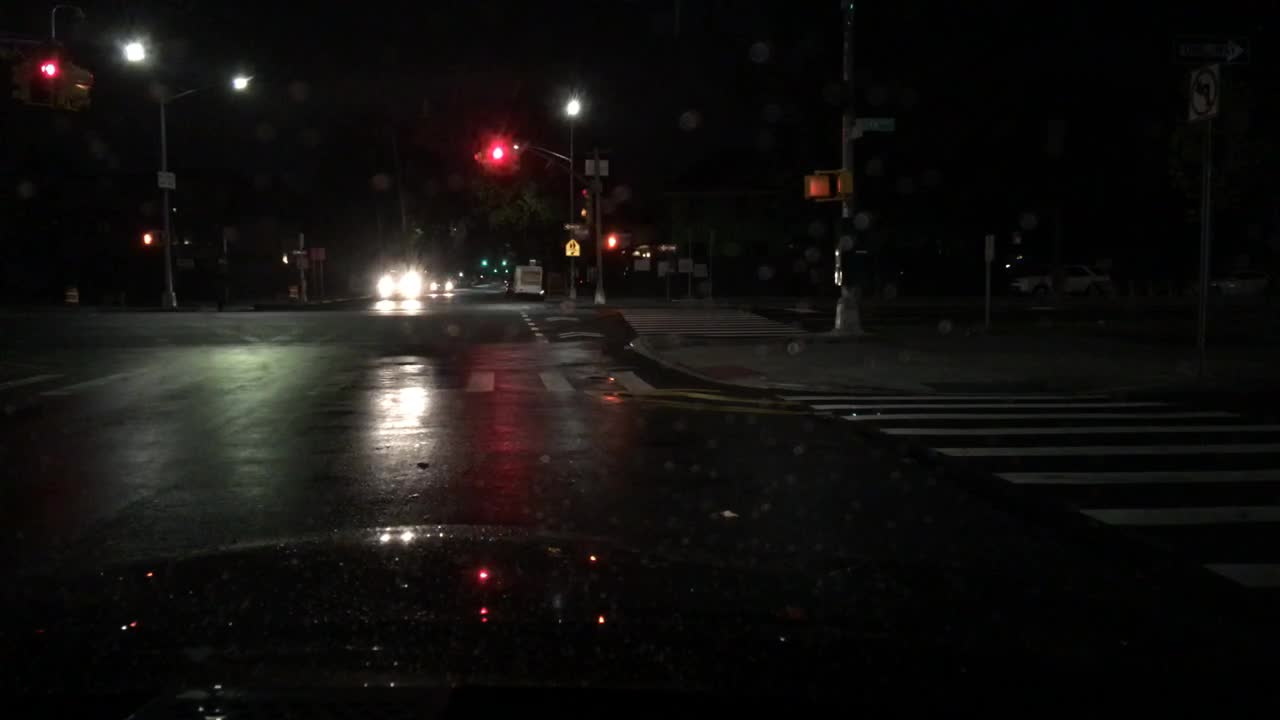car: (1001, 249, 1109, 299), (1195, 251, 1277, 296), (375, 262, 428, 299), (512, 263, 547, 294), (430, 273, 457, 292)
traffic light: (69, 62, 95, 114), (8, 53, 34, 103), (40, 54, 63, 101), (473, 135, 491, 172), (806, 172, 828, 199), (505, 138, 522, 171), (489, 138, 507, 168), (832, 168, 851, 196), (576, 183, 589, 220), (139, 228, 157, 251), (602, 233, 618, 251), (501, 257, 508, 269), (481, 259, 488, 269)
traffic sign: (1187, 66, 1219, 123), (1181, 40, 1242, 62), (155, 171, 178, 188), (855, 119, 890, 130), (586, 159, 608, 176), (565, 238, 581, 257), (983, 237, 993, 264), (656, 262, 673, 276), (560, 220, 581, 231), (677, 257, 693, 271), (694, 262, 709, 276), (308, 249, 324, 259), (850, 128, 863, 139)
